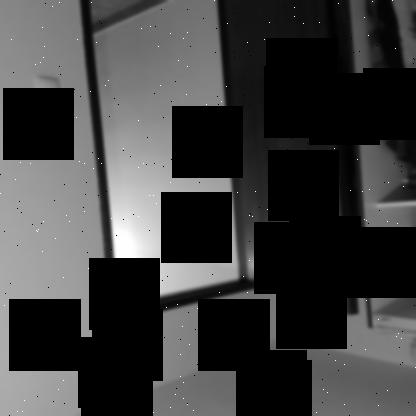Porte: (76, 0, 362, 326)
